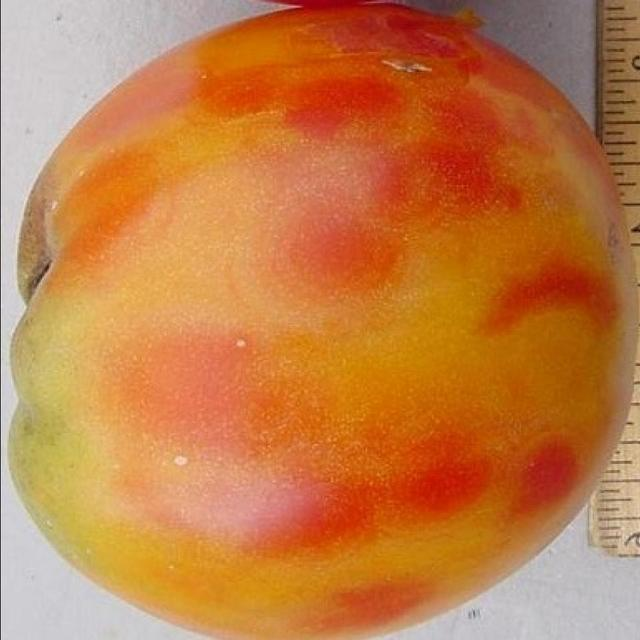Spotted wilt Virus Fruit: (7, 8, 420, 427)
